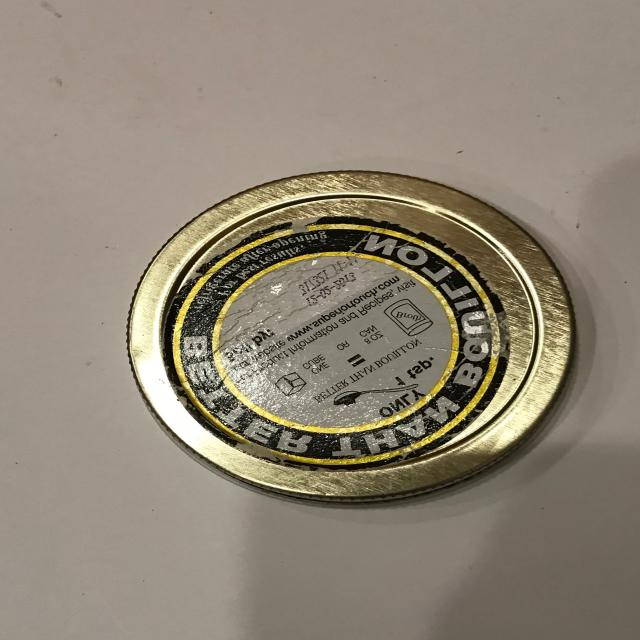metal: (125, 169, 577, 506)
